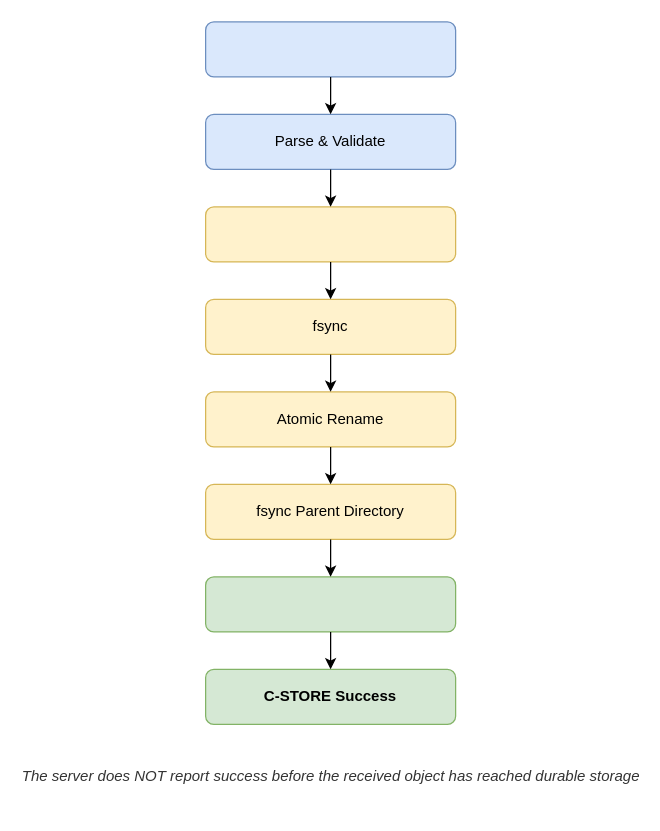
Image size: 660x831. Some labels were removed from this diagram. The shapes that lost their labels are listed below. From the top down, each one's centre as x and y in pixels, then its label:
the point at 330,49: DICOM Receive
the point at 330,234: Temporary File
the point at 330,604: PostgreSQL Transaction
